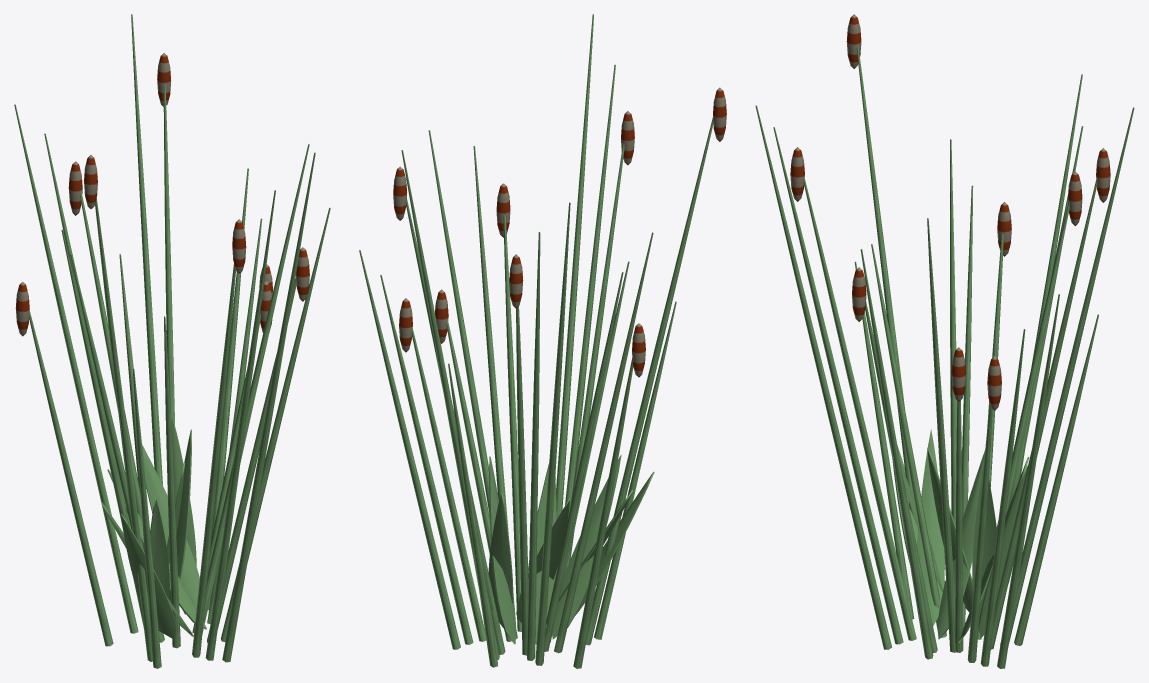
The model's file is birds-and-reptiles-hd-reed-clump-ec55c985__28118.glb.
3 views of the same model, side by side, from view 1: azimuth 30°, elevation 25°; view 2: azimuth 150°, elevation 25°; view 3: azimuth 270°, elevation 25° (orthographic).
Parts seen in each view (by area): view 1: reed-clump; view 2: reed-clump; view 3: reed-clump.
Boxes of the visible parts, <box> form: reed-clump: <box>14,14,330,668</box>; reed-clump: <box>359,14,726,668</box>; reed-clump: <box>755,14,1134,668</box>.
Size of the model in its own units: 0.7602 by 1.52 by 0.9309.
2 materials, 2 textured.
